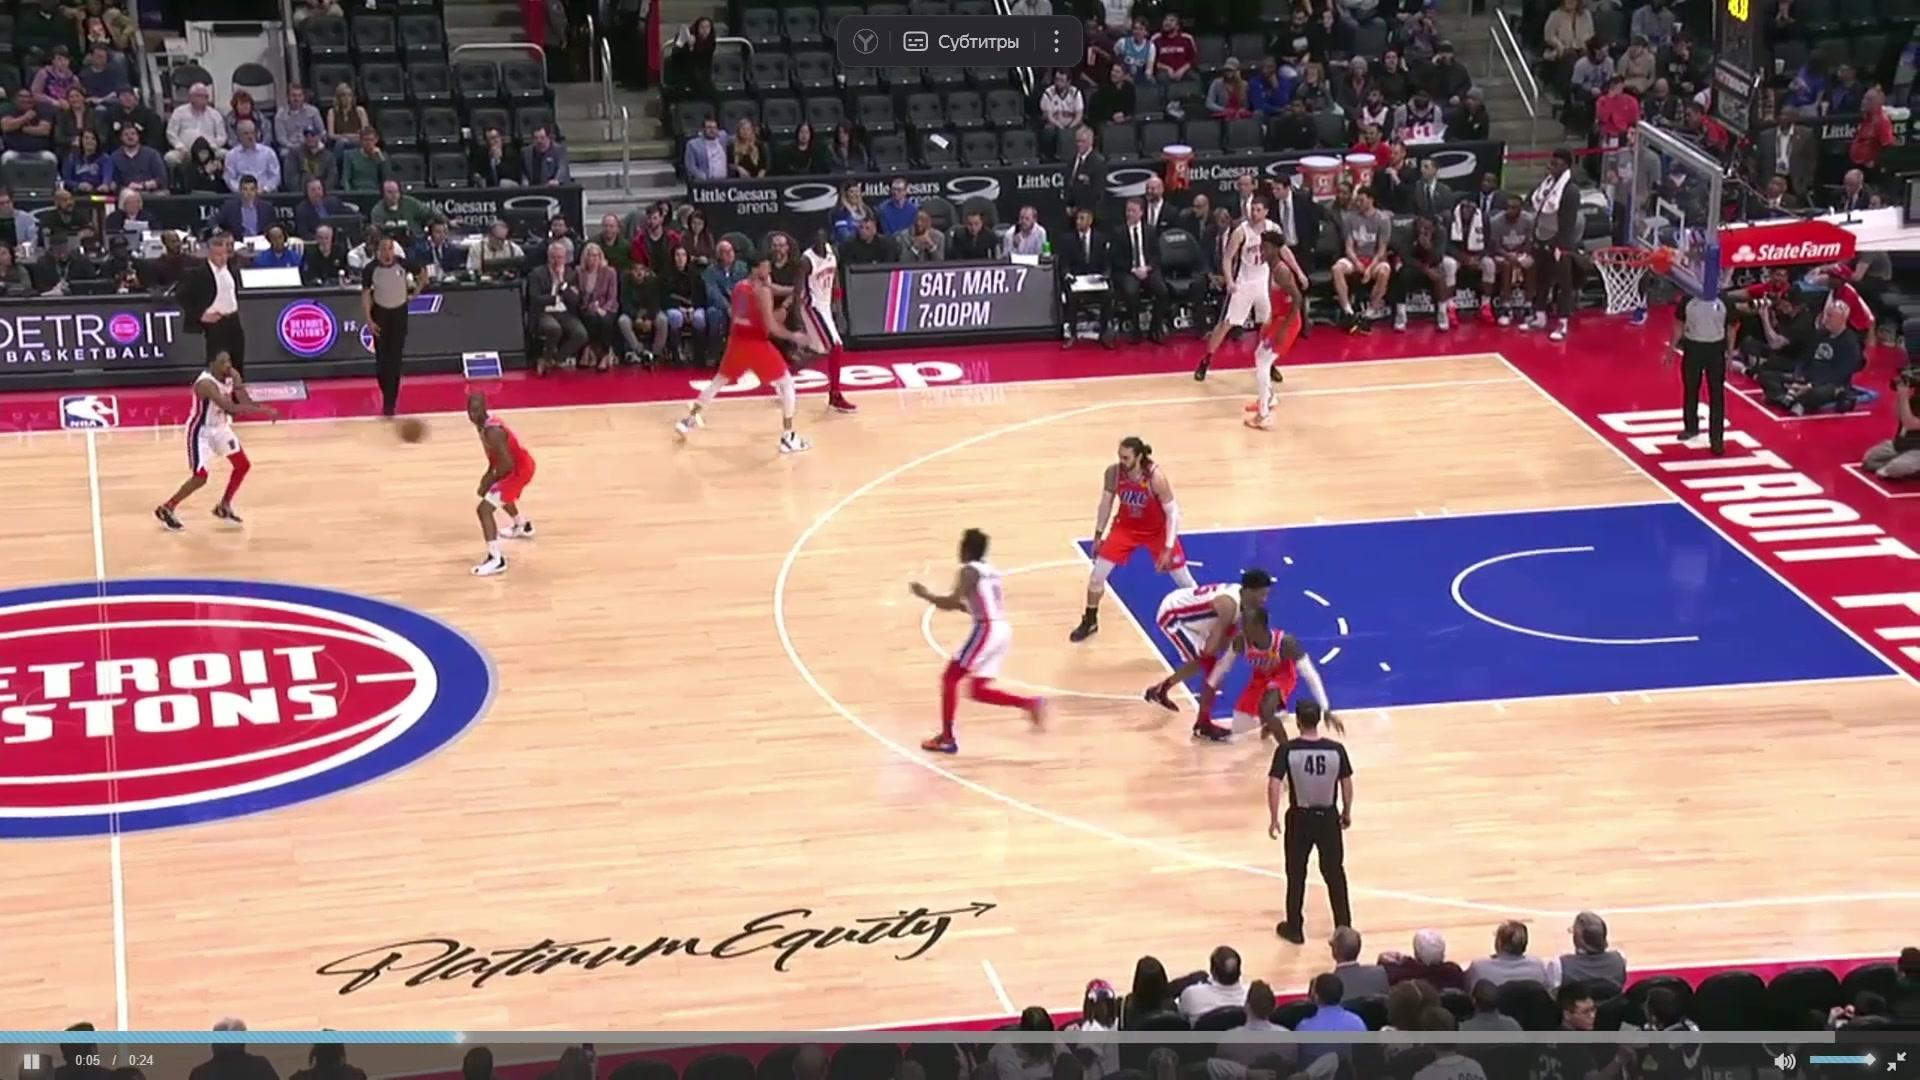foul: (1155, 564, 1352, 748)
